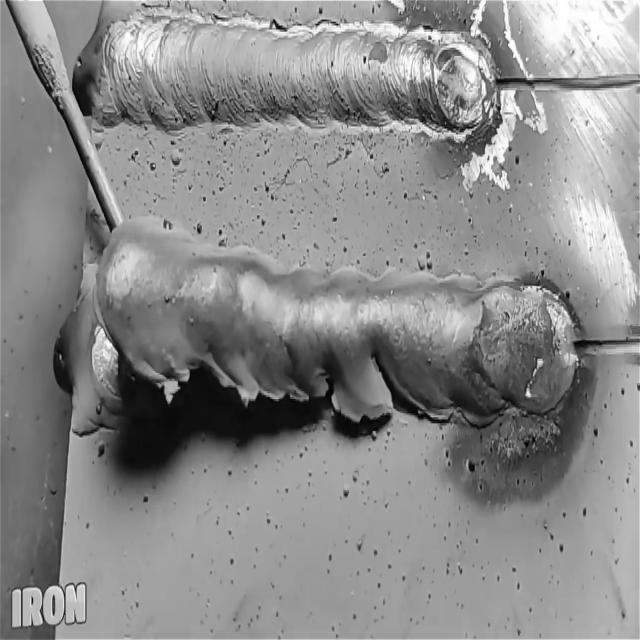Good Weld: (126, 20, 487, 140)
